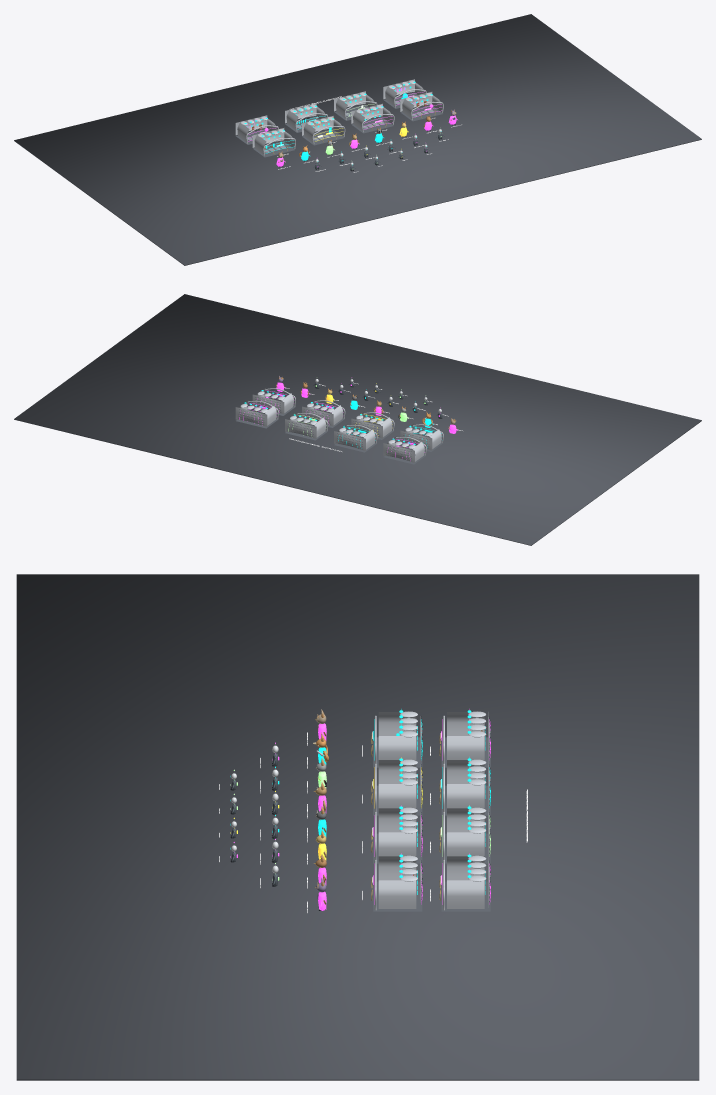
The model's file is lunar-city-hero-assets.glb.
3 renders of one model, top to bottom at view 1: azimuth 30°, elevation 25°; view 2: azimuth 150°, elevation 25°; view 3: azimuth 270°, elevation 25°, orthographic. The views are drawn at different scales.
Visible parts, largest first — view 1: hero_asset_review_floor; view 2: hero_asset_review_floor, council-hall_single_piece_back_hull_skin; view 3: hero_asset_review_floor, archive_right_continuous_buttress_skin, council-hall_right_continuous_buttress_skin, review-office_right_continuous_buttress_skin, triage-clinic_right_continuous_buttress_skin, arts-studio_right_continuous_buttress_skin, research-lab_right_continuous_buttress_skin, engineering-workshop_right_continuous_buttress_skin, library_right_continuous_buttress_skin.
Part boxes in pixels (bbox=[...]): hero_asset_review_floor: bbox=[14, 14, 701, 265]; hero_asset_review_floor: bbox=[14, 294, 701, 545]; council-hall_single_piece_back_hull_skin: bbox=[235, 407, 267, 426]; hero_asset_review_floor: bbox=[16, 574, 699, 1080]; archive_right_continuous_buttress_skin: bbox=[378, 880, 416, 908]; council-hall_right_continuous_buttress_skin: bbox=[447, 880, 484, 908]; review-office_right_continuous_buttress_skin: bbox=[378, 832, 416, 856]; triage-clinic_right_continuous_buttress_skin: bbox=[378, 784, 416, 808]; arts-studio_right_continuous_buttress_skin: bbox=[447, 832, 484, 856]; research-lab_right_continuous_buttress_skin: bbox=[447, 784, 484, 808]; engineering-workshop_right_continuous_buttress_skin: bbox=[378, 736, 416, 759]; library_right_continuous_buttress_skin: bbox=[447, 736, 484, 759].
Size of the model in its own units: 84 by 2.87 by 48.
